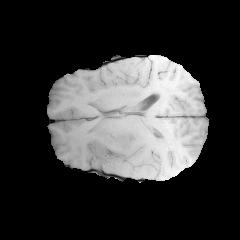glioma: (102, 134, 161, 165)
